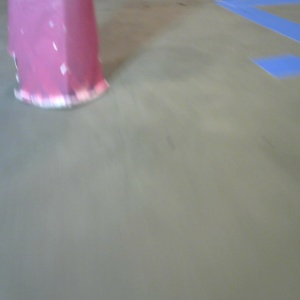right: (228, 1, 293, 41)
